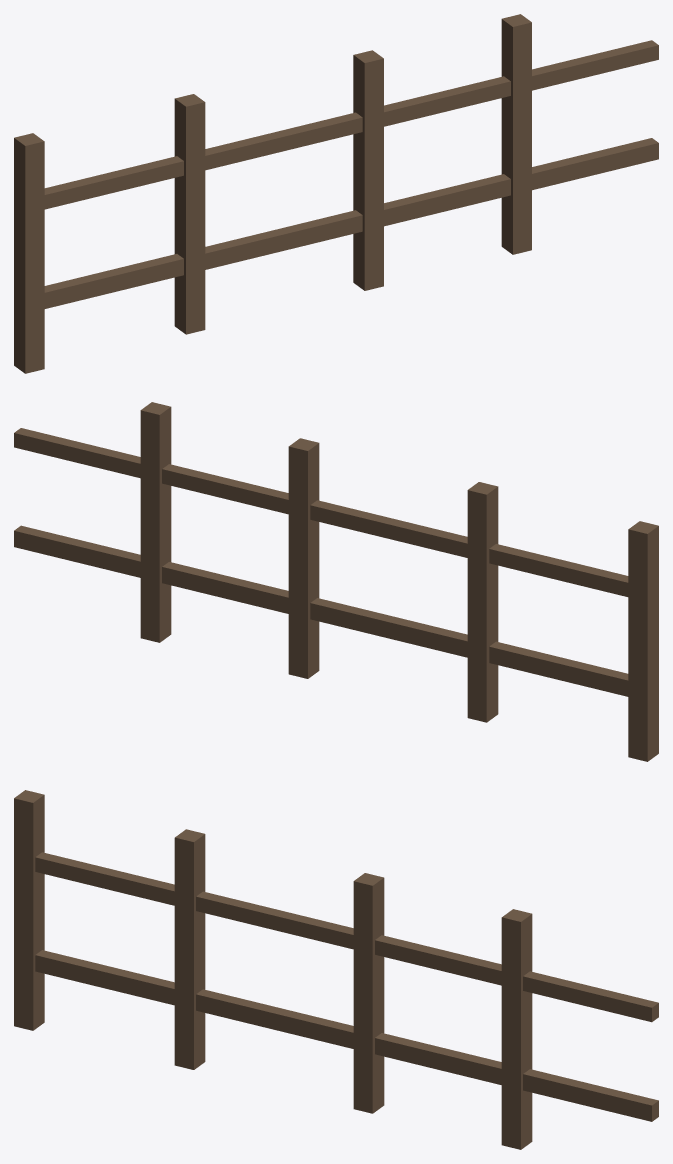
Rendered from Fence.fbx.
3 views of the same model, one above another, from view 1: azimuth 30°, elevation 25°; view 2: azimuth 150°, elevation 25°; view 3: azimuth 330°, elevation 25° (orthographic).
Parts seen in each view (by area): view 1: Cube.005; view 2: Cube.005; view 3: Cube.005.
Part boxes in pixels (box(x1,y1,x2,y2)): Cube.005: box(14, 14, 658, 373); Cube.005: box(14, 402, 658, 761); Cube.005: box(14, 790, 658, 1149).
Size of the model in its own units: 1489 by 510 by 46.06.
